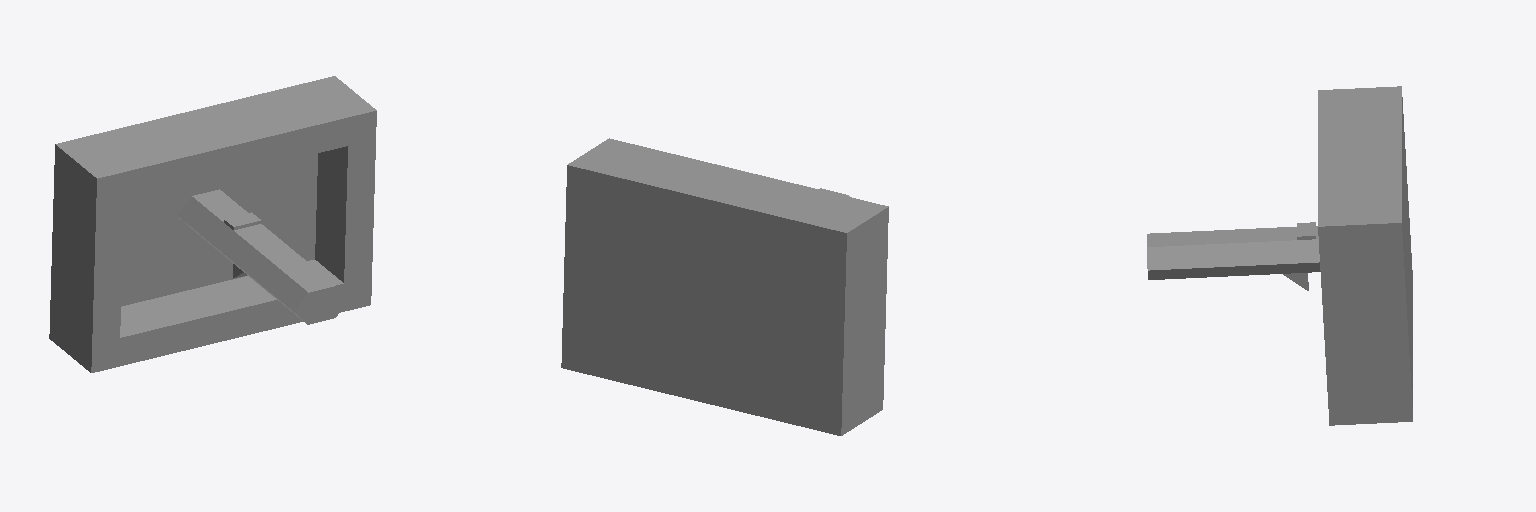
Rendered from thor.obj.
The picture shows the model from 3 angles: view 1: azimuth 30°, elevation 25°; view 2: azimuth 150°, elevation 25°; view 3: azimuth 270°, elevation 25°; orthographic projection.
Visible parts, largest first — view 1: Thor_Aligned; view 2: Thor_Aligned; view 3: Thor_Aligned.
Boxes of the visible parts, x1,y1,x2,y2 form: Thor_Aligned: [49, 76, 376, 372]; Thor_Aligned: [561, 138, 888, 435]; Thor_Aligned: [1147, 86, 1412, 425].
Size of the model in its own units: 0.25 by 0.1732 by 0.2063.